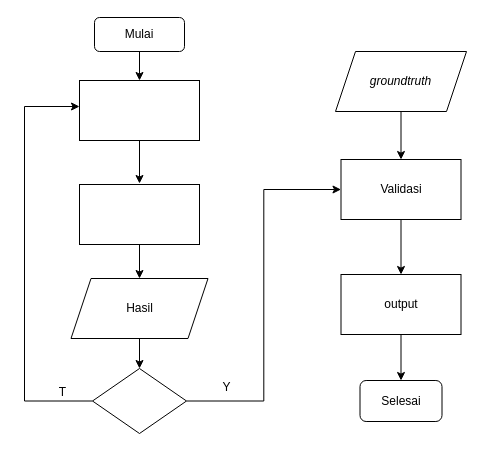
Some shapes in this 484 by 451 pixel diagram are drawn without their labels. The shapes that lost their labels are listed below. From the top down, each one's centre as x and y in pixels, then its label:
At pixel 139 110: "Pengolahan data citra input".
At pixel 139 214: "Deteksi keliling menggunakan active contour".
At pixel 139 401: "simpan hasil".
